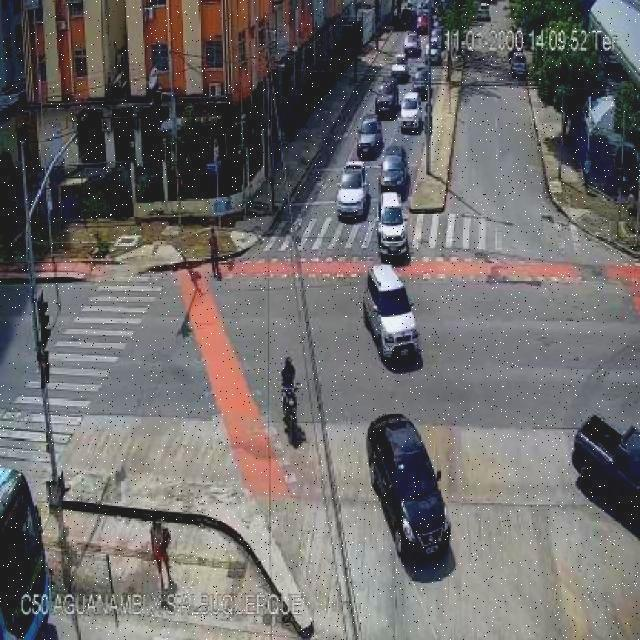Car: (360, 397, 468, 588), (0, 465, 56, 636), (573, 415, 638, 549), (362, 264, 420, 363), (376, 193, 408, 259), (338, 164, 372, 220), (380, 147, 408, 191), (356, 118, 383, 157), (399, 92, 423, 133), (374, 81, 398, 116), (411, 68, 431, 100), (509, 51, 527, 79), (403, 32, 421, 56), (390, 60, 409, 82), (428, 43, 443, 65), (476, 2, 491, 21)
Cycle: (264, 339, 317, 444)
